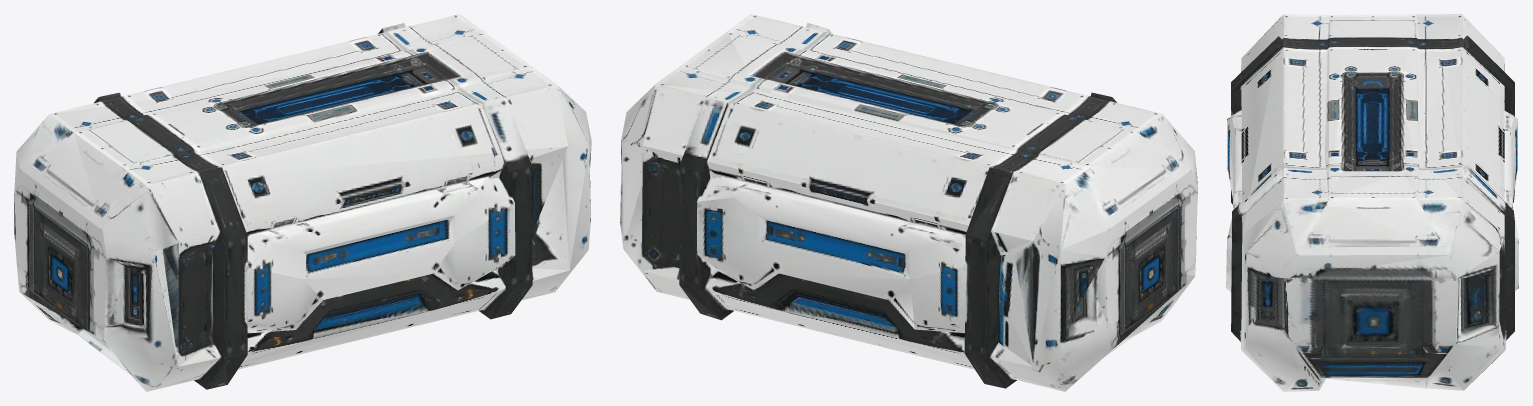
The model's file is pod.glb.
The picture shows the model from 3 angles, left to right: view 1: azimuth 30°, elevation 25°; view 2: azimuth 150°, elevation 25°; view 3: azimuth 270°, elevation 25°; orthographic projection. The views are drawn at different scales.
Visible parts, largest first — view 1: mesh_node; view 2: mesh_node; view 3: mesh_node.
Boxes of the visible parts, x1,y1,x2,y2 form: mesh_node: (14,14,591,391); mesh_node: (620,14,1197,391); mesh_node: (1226,14,1518,391).
Bounding box in the file's own units: 1 × 0.4229 × 0.5644.
1 material, 1 textured.
